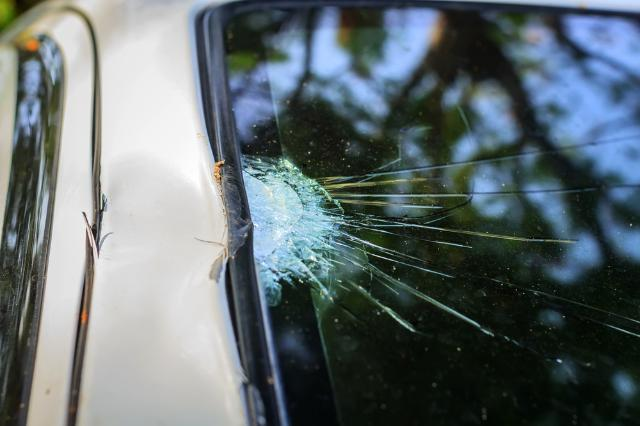dent: (90, 153, 244, 426)
glass shatter: (223, 0, 640, 426)
